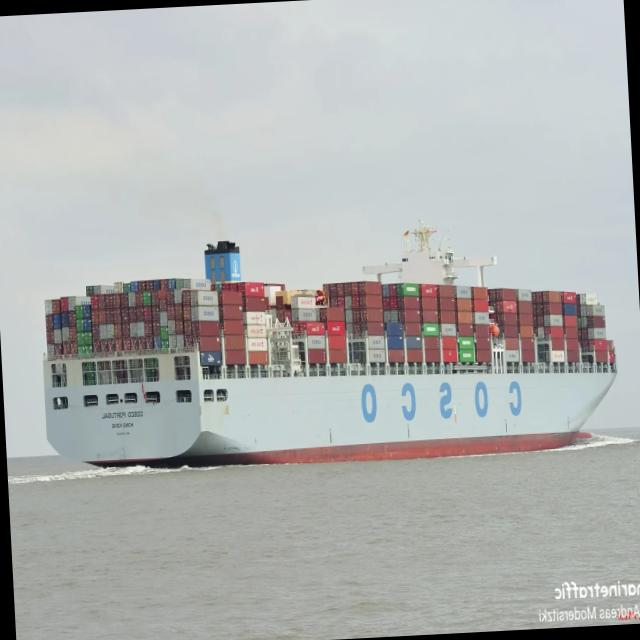Cargo: (43, 222, 617, 464)
